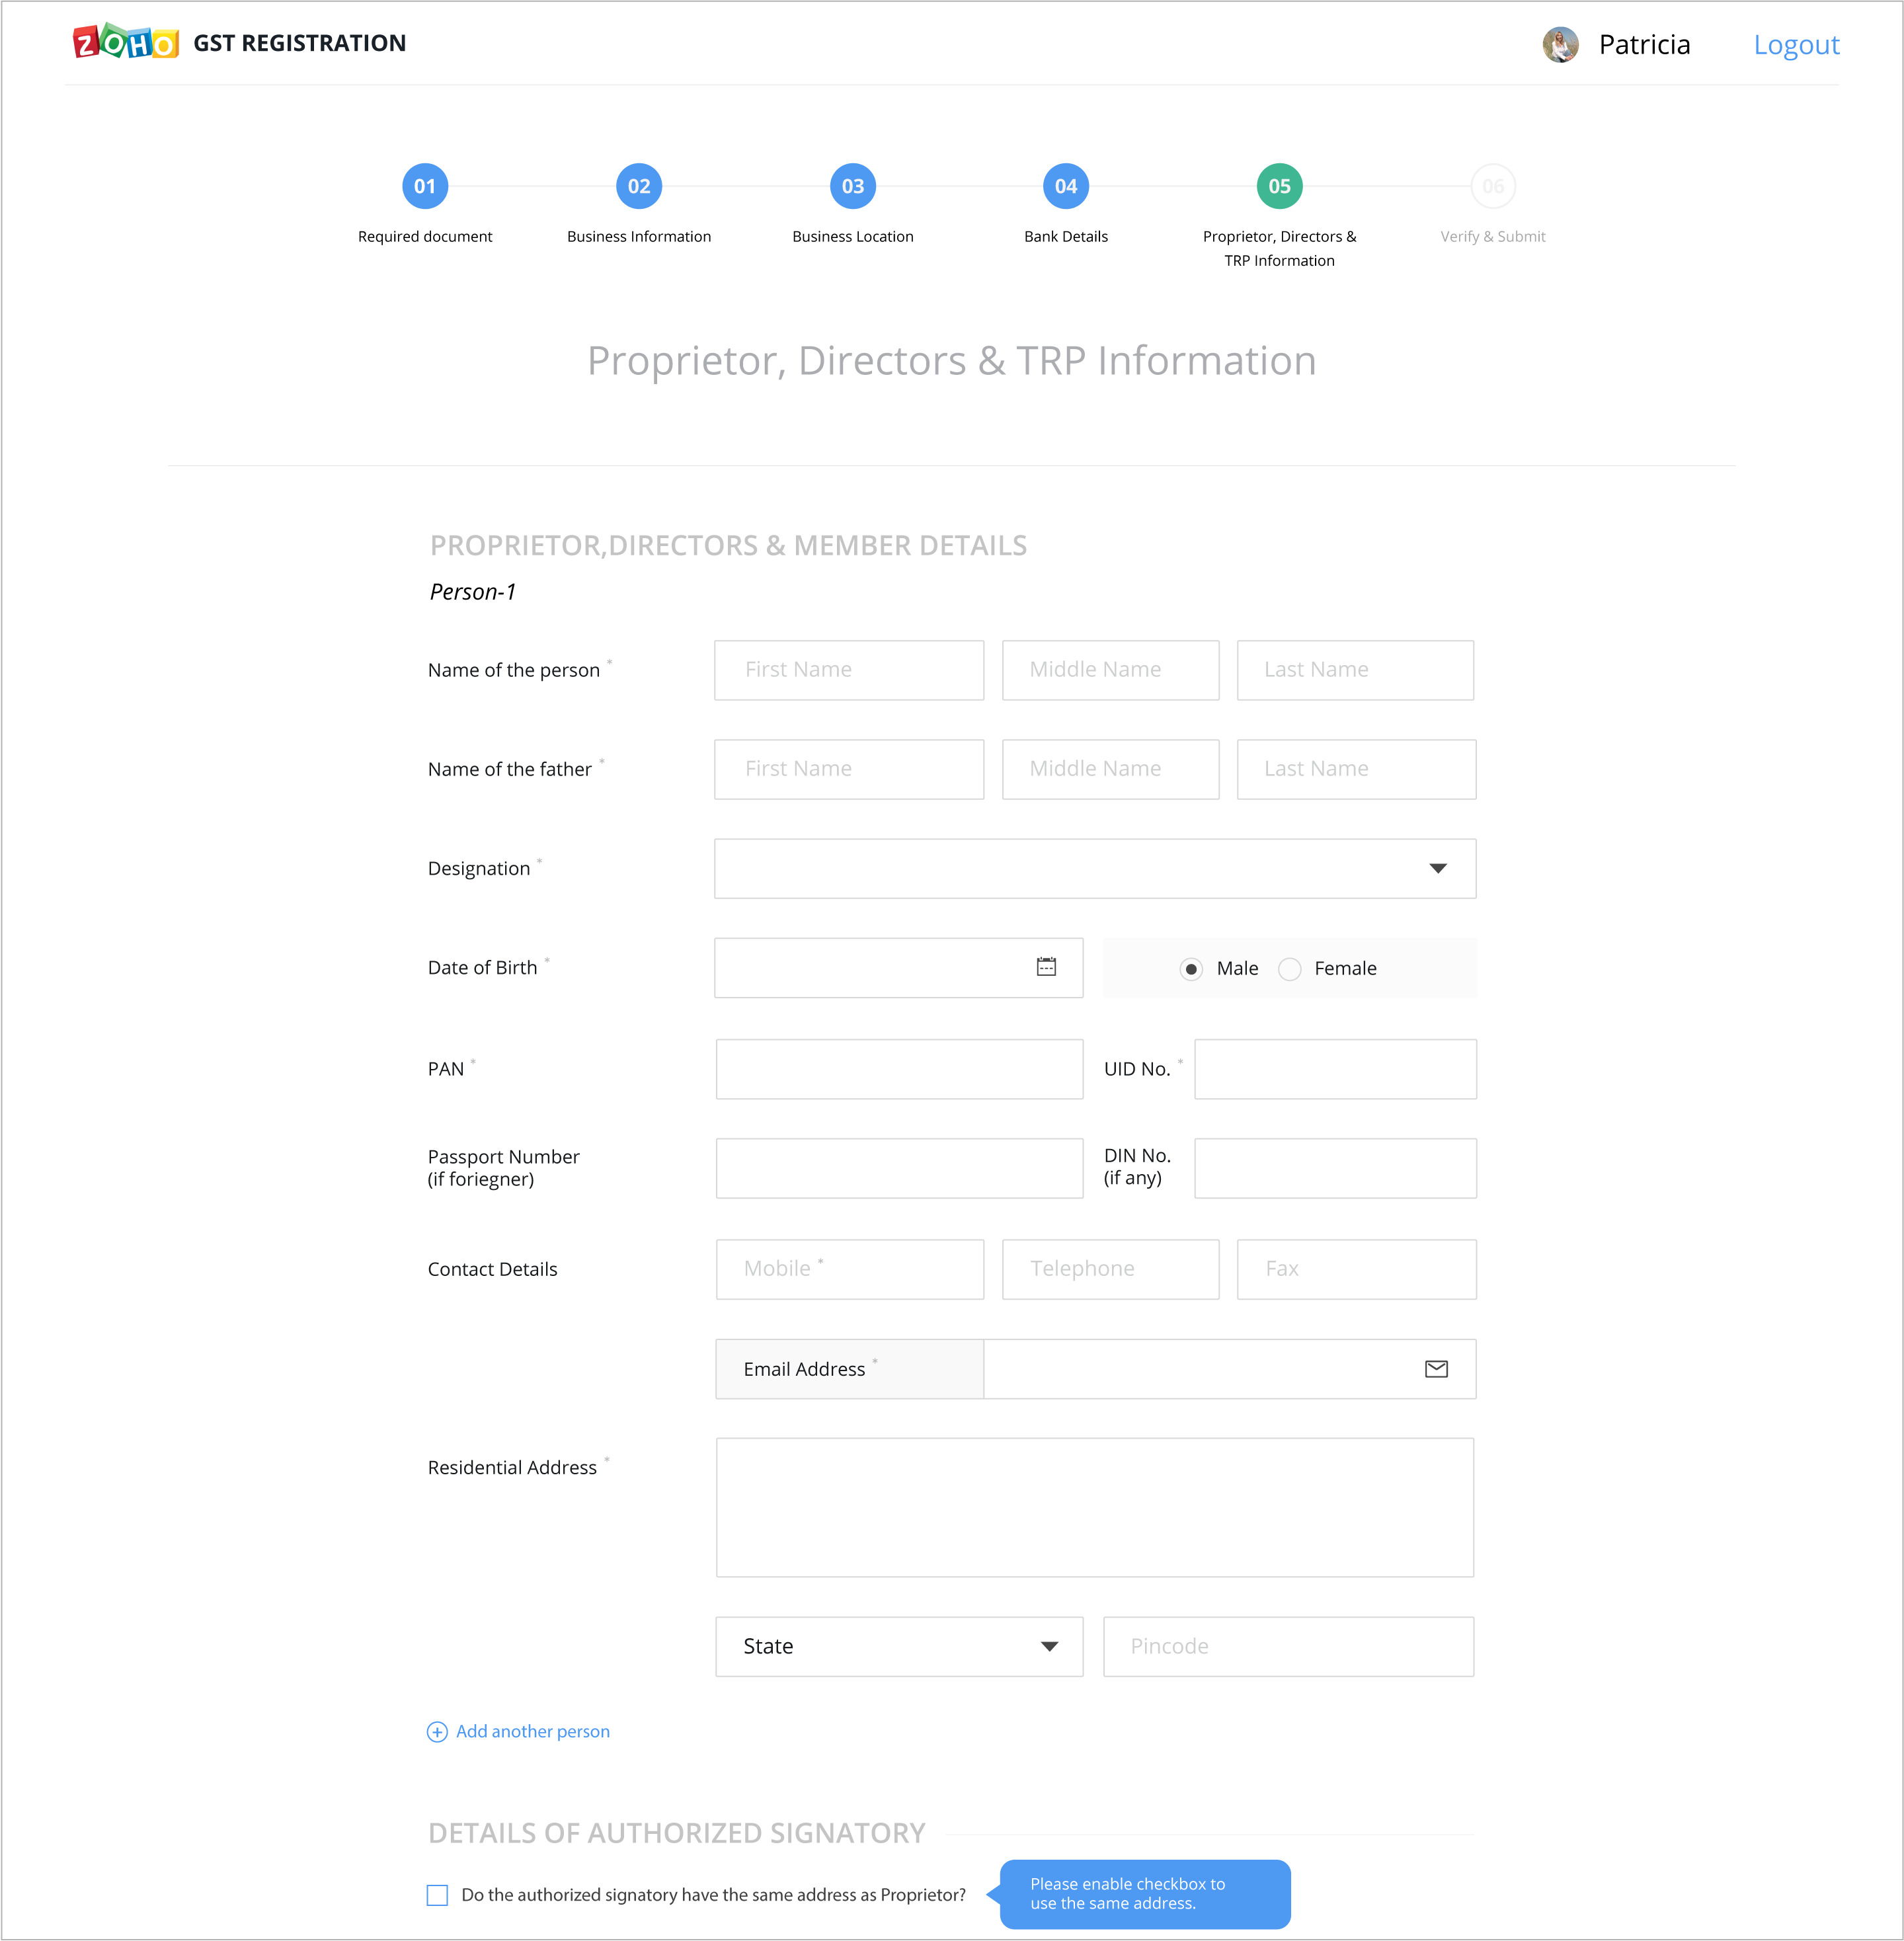_form_: (992, 610, 1677, 1229), (417, 610, 1100, 1229), (389, 1127, 1072, 1744)
checkbox: (425, 1882, 457, 1908)
checkbox_with_label: (417, 1875, 971, 1917)
field: (425, 1435, 1480, 1578), (711, 1334, 1482, 1402), (1100, 1613, 1477, 1681), (711, 1137, 1086, 1203), (713, 1036, 1081, 1102), (708, 936, 1088, 999), (1191, 1137, 1482, 1202), (1191, 1038, 1479, 1102), (710, 1238, 987, 1304), (713, 640, 987, 705), (713, 739, 983, 802), (1234, 1238, 1477, 1304), (1234, 638, 1477, 703), (1233, 738, 1480, 800), (1001, 638, 1224, 703), (1001, 738, 1221, 802), (1001, 1238, 1221, 1303)
field_with_label: (411, 825, 1493, 909), (422, 1027, 1095, 1109), (410, 930, 1097, 1006), (424, 1228, 992, 1311), (424, 1135, 1088, 1207), (411, 732, 992, 809), (413, 637, 1004, 712), (1102, 1132, 1489, 1205), (1100, 1032, 1487, 1104)
radio: (1177, 952, 1215, 982), (1278, 954, 1311, 982)
radio_with_label: (1273, 945, 1374, 991), (1168, 947, 1262, 985)
select: (710, 837, 1484, 902), (715, 1615, 1086, 1681)
